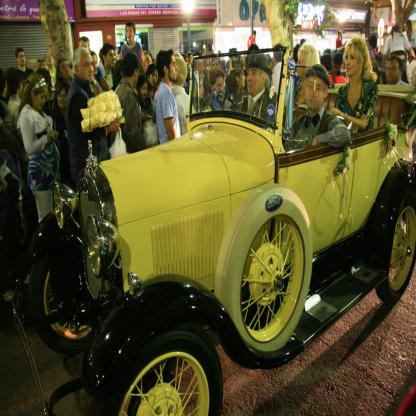Car: (49, 38, 406, 410)
